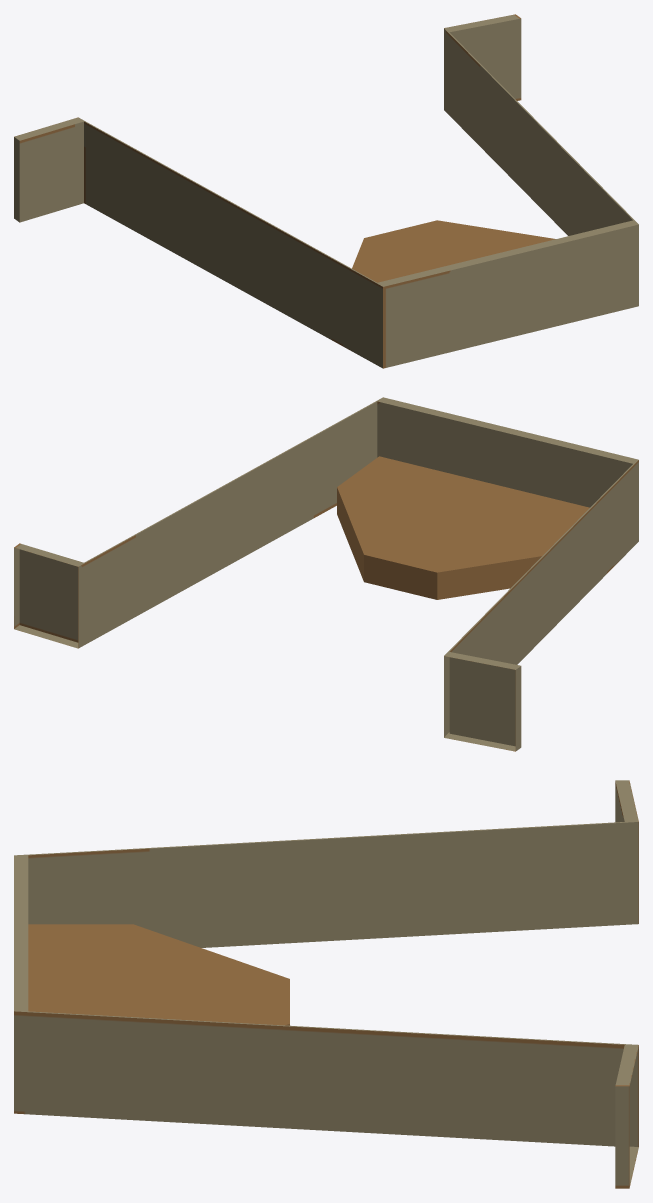
The model's file is stone_slinger_magazine.fbx.
3 renders of one model, top to bottom at view 1: azimuth 30°, elevation 25°; view 2: azimuth 150°, elevation 25°; view 3: azimuth 270°, elevation 25°, orthographic. The views are drawn at different scales.
Parts seen in each view (by area): view 1: magazine_visual; view 2: magazine_visual; view 3: magazine_visual.
Part boxes in pixels (<box>): magazine_visual: <box>14,14,638,368</box>; magazine_visual: <box>14,397,638,751</box>; magazine_visual: <box>14,780,638,1188</box>.
Bounding box in the file's own units: 99.02 × 15.42 × 85.46.
1 material, 1 textured.
